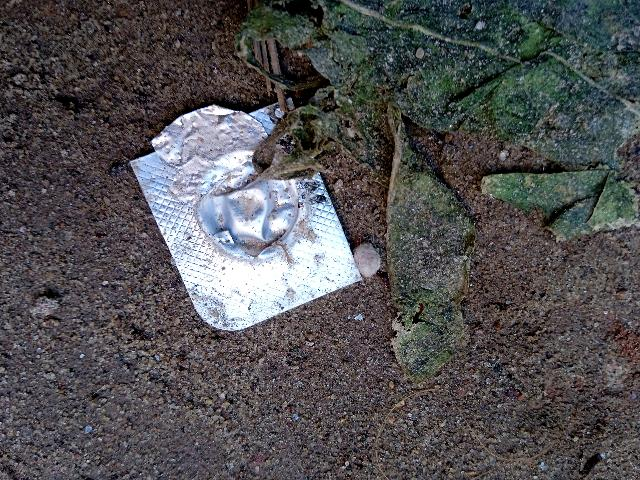medicine: (127, 88, 372, 352)
